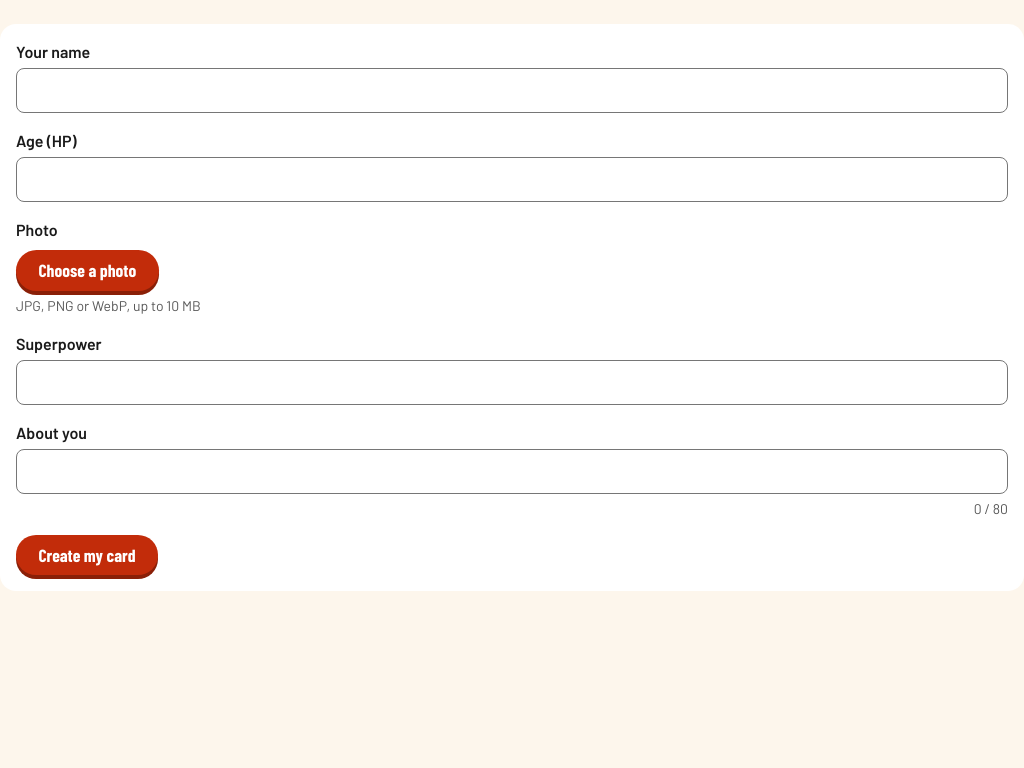
Test: CardForm › hides a shown error as soon as the value is fixed, but never shows a new one while typing
Type "150" into the field labelled "Age (HP)" at [512, 180], box 16,157 -> 1008,202
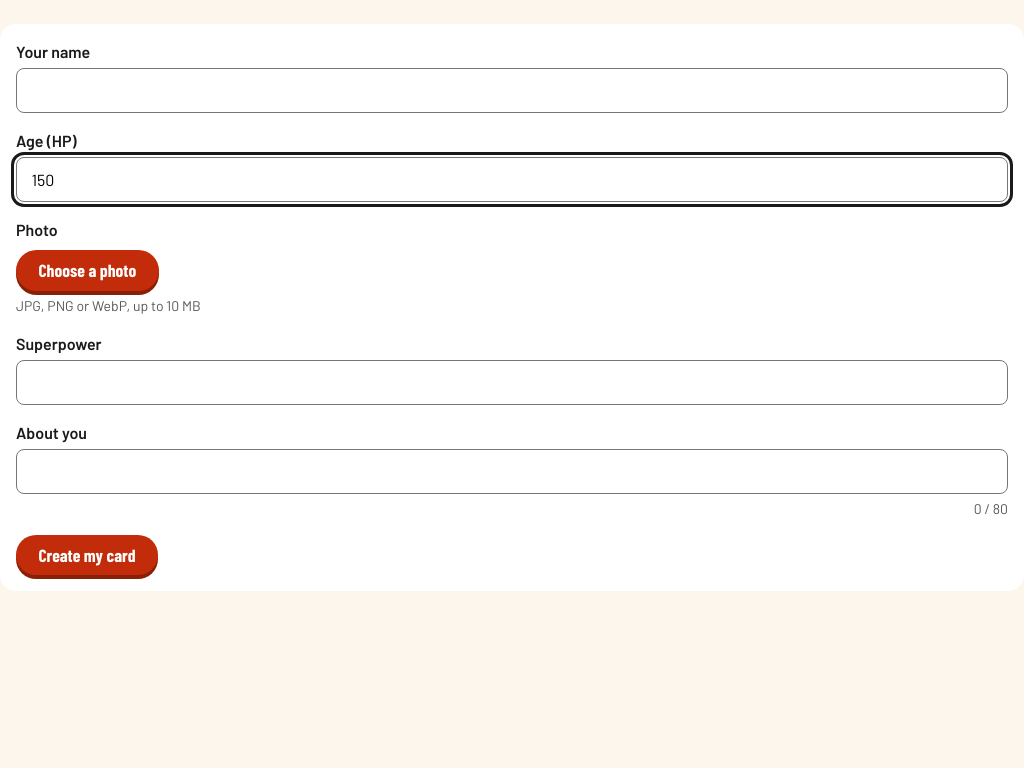
Press Tab
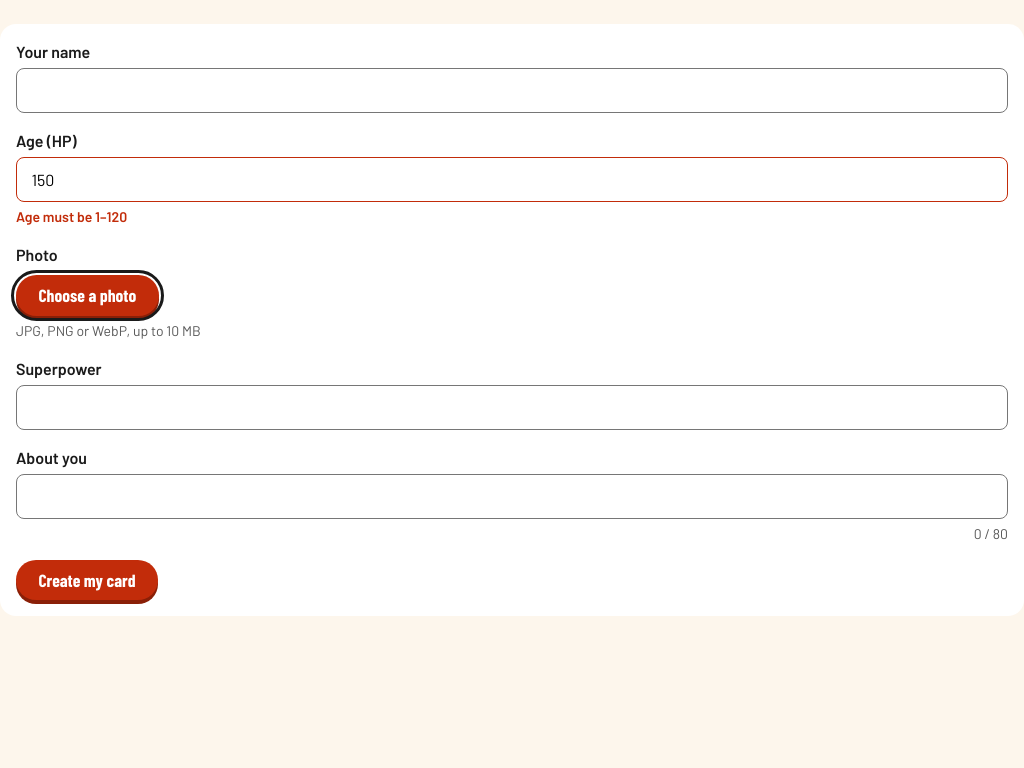
Replace the text in the field labelled "Age (HP)" with "30" at [512, 180], box 16,157 -> 1008,202
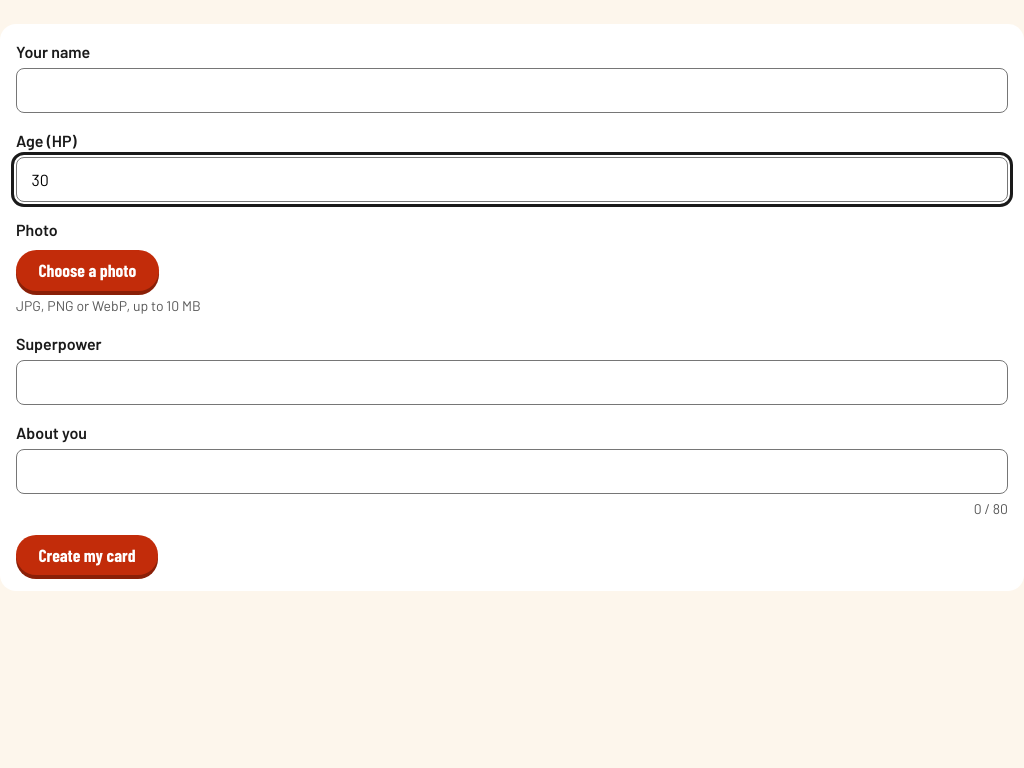
Result: the text "Age must be 1–120" is gone
Type "x" into the field labelled "Age (HP)" at [512, 180], box 16,157 -> 1008,202
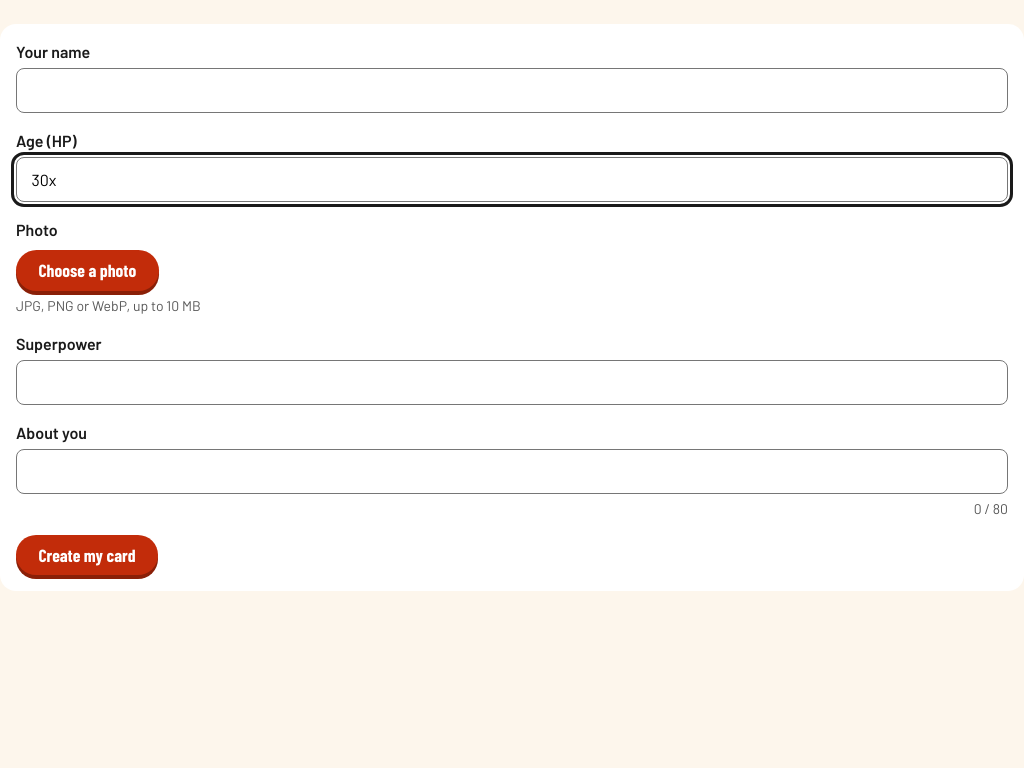
Expected: the text "Age must be 1–120" is not shown
Press Tab
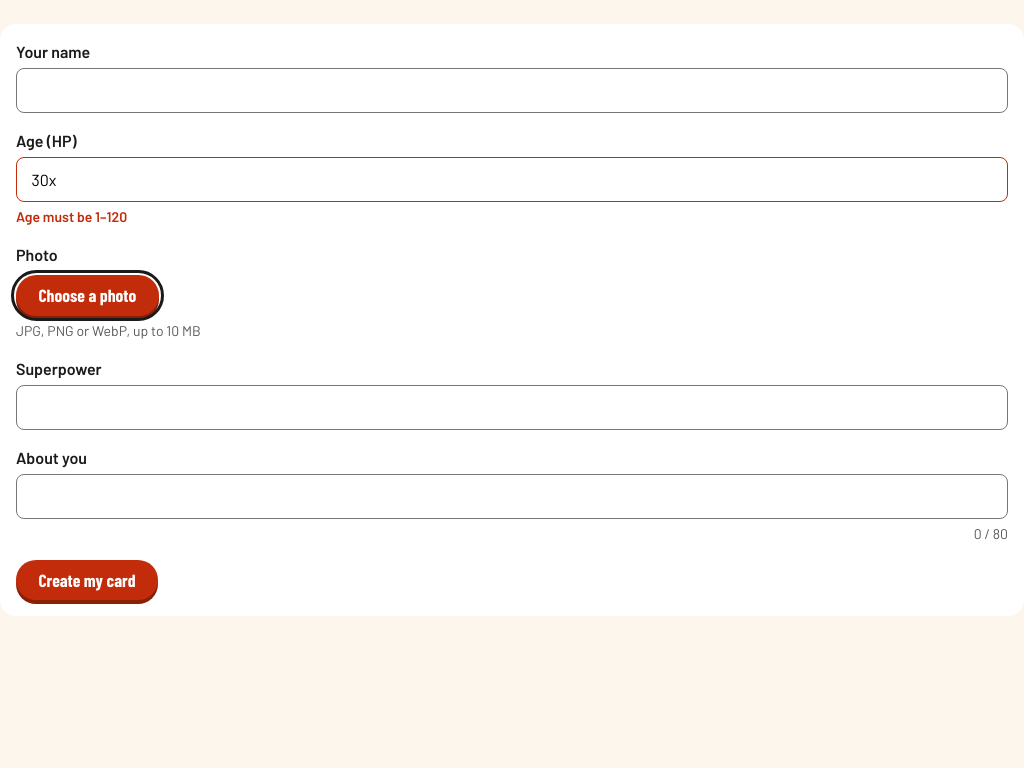
Result: the text "Age must be 1–120" is shown at 16,208 -> 127,225
